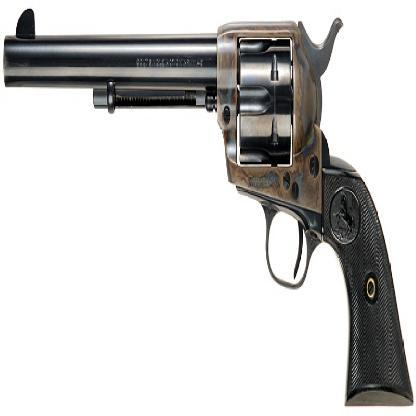gun: (4, 8, 412, 409)
